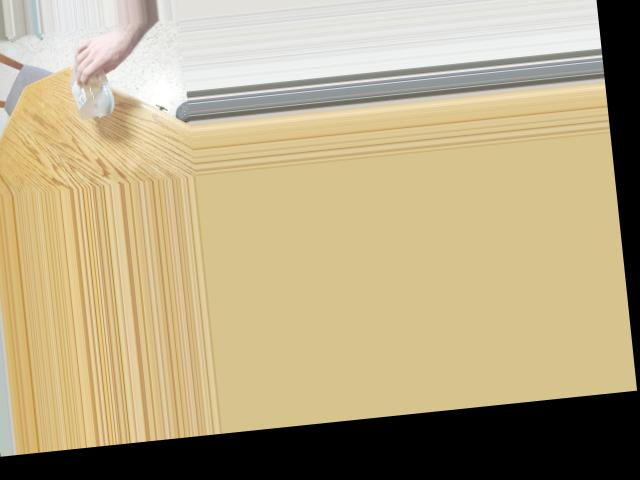cheese: (66, 50, 118, 108)
